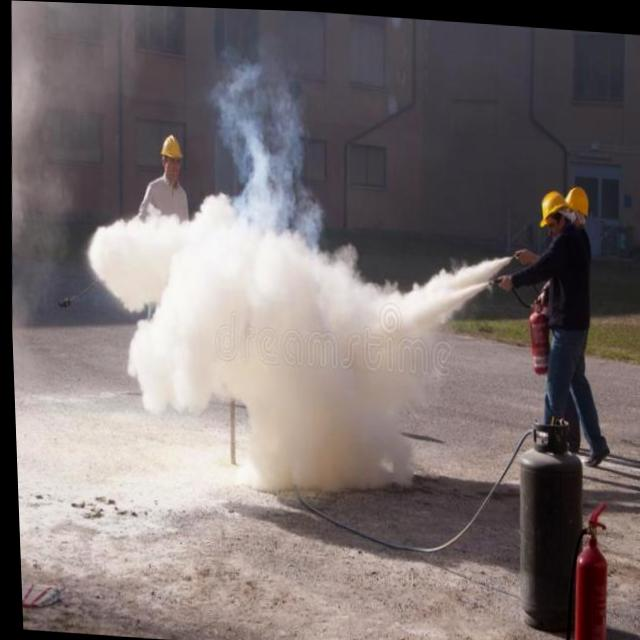FireExtinguisher: (552, 486, 616, 640), (477, 263, 552, 378)
